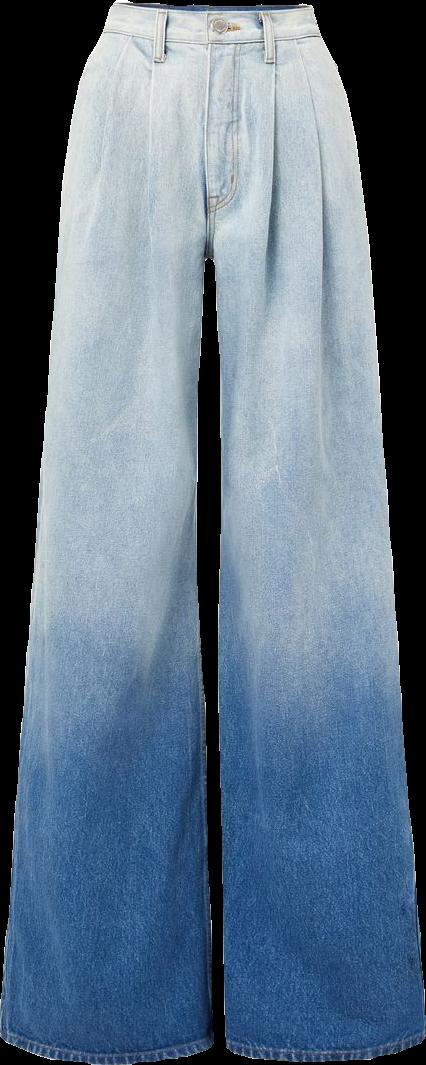Hemline: (0, 1024, 218, 1064), (221, 1034, 425, 1063)
Pantleg: (203, 5, 424, 1059), (0, 1, 219, 1062)
Waistline: (98, 25, 321, 51), (111, 0, 316, 21)
